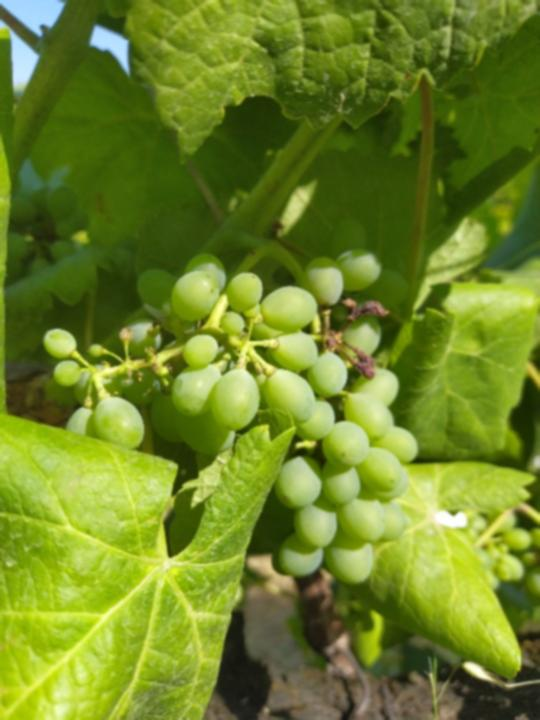grape: (41, 217, 425, 590)
